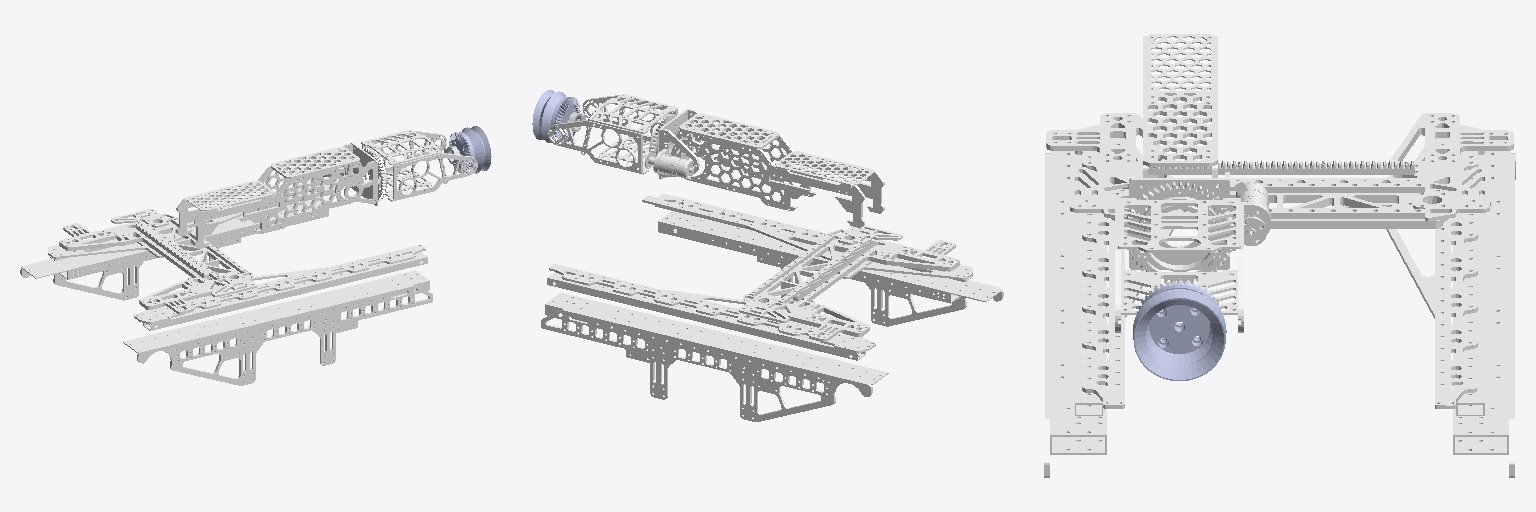
robot.urdf — engineer:
<?xml version="1.0" encoding="utf-8" ?>
<!-- This URDF was automatically created by SolidWorks to URDF Exporter! Originally created by [author] ([email redacted]) 
     Commit Version: 1.6.0-4-g7f85cfe  Build Version: 1.6.7995.38578
     For more information, please see http://wiki.ros.org/sw_urdf_exporter -->
<robot name="engineer">
    <link name="dummy" />
    <joint name="dummy_joint" type="fixed">
        <origin xyz="0 0 0" rpy="0 0 1.57" />
        <parent link="dummy" />
        <child link="base_link" />
    </joint>
    <link name="base_link">
        <inertial>
            <origin xyz="-0.288926800862263 0.341162145556413 -0.185664178118648" rpy="0 0 0" />
            <mass value="0.00001" />
            <inertia ixx="10" ixy="0" ixz="0" iyy="10" iyz="0" izz="10" />
        </inertial>
        <visual>
            <origin xyz="0 0 0" rpy="0 0 0" />
            <geometry>
                <mesh filename="package://engineer_description/meshes/base_link.STL" />
            </geometry>
            <material name="">
                <color rgba="0.752941176470588 0.752941176470588 0.752941176470588 1" />
            </material>
        </visual>
        <collision>
            <origin xyz="0 0 0" rpy="0 0 0" />
            <geometry>
                <mesh filename="package://engineer_description/meshes/base_link.STL" />
            </geometry>
        </collision>
    </link>
    <link name="uplift_Link">
        <inertial>
            <origin xyz="0.144500000000001 0.212634252637614 -0.0290559483353577" rpy="0 0 0" />
            <mass value="0.00001" />
            <inertia ixx="10" ixy="0" ixz="0" iyy="10" iyz="0" izz="10" />
        </inertial>
        <visual>
            <origin xyz="0 0 0" rpy="0 0 0" />
            <geometry>
                <mesh filename="package://engineer_description/meshes/uplift_Link.STL" />
            </geometry>
            <material name="">
                <color rgba="1 1 1 1" />
            </material>
        </visual>
        <collision>
            <origin xyz="0 0 0" rpy="0 0 0" />
            <geometry>
                <mesh filename="package://engineer_description/meshes/uplift_Link.STL" />
            </geometry>
        </collision>
    </link>
    <joint name="uplift_joint" type="prismatic">
        <origin xyz="-0.14393 0.2505 0.19643" rpy="0 0 -3.1416" />
        <parent link="base_link" />
        <child link="uplift_Link" />
        <axis xyz="0 0 1" />
        <limit lower="0" upper="0.66" effort="100" velocity="1.000001" />
    </joint>
    <link name="extend_Link">
        <inertial>
            <origin xyz="3.08764571280706E-05 0.00571135760942115 -0.0142912055436517" rpy="0 0 0" />
            <mass value="0.00001" />
            <inertia ixx="10" ixy="0" ixz="0" iyy="10" iyz="0" izz="10" />
        </inertial>
        <visual>
            <origin xyz="0 0 0" rpy="0 0 0" />
            <geometry>
                <mesh filename="package://engineer_description/meshes/extend_Link.STL" />
            </geometry>
            <material name="">
                <color rgba="1 1 1 1" />
            </material>
        </visual>
        <collision>
            <origin xyz="0 0 0" rpy="0 0 0" />
            <geometry>
                <mesh filename="package://engineer_description/meshes/extend_Link.STL" />
            </geometry>
        </collision>
    </link>
    <joint name="extend_joint" type="prismatic">
        <origin xyz="0.1445 0.115 0.013" rpy="1.5708 0 0" />
        <parent link="uplift_Link" />
        <child link="extend_Link" />
        <axis xyz="0 0 -1" />
        <limit lower="0" upper="0.66" effort="100" velocity="1.000001" />
    </joint>
    <link name="slide_Link">
        <inertial>
            <origin xyz="0.0352660608065838 0.0389862866052242 -0.0301817638795753" rpy="0 0 0" />
            <mass value="0.00001" />
            <inertia ixx="10" ixy="0" ixz="0" iyy="10" iyz="0" izz="10" />
        </inertial>
        <visual>
            <origin xyz="0 0 0" rpy="0 0 0" />
            <geometry>
                <mesh filename="package://engineer_description/meshes/slide_Link.STL" />
            </geometry>
            <material name="">
                <color rgba="1 1 1 1" />
            </material>
        </visual>
        <collision>
            <origin xyz="0 0 0" rpy="0 0 0" />
            <geometry>
                <mesh filename="package://engineer_description/meshes/slide_Link.STL" />
            </geometry>
        </collision>
    </link>
    <joint name="slide_joint" type="prismatic">
        <origin xyz="0.04035 0.017 -0.0805" rpy="0 -1.5708 0" />
        <parent link="extend_Link" />
        <child link="slide_Link" />
        <axis xyz="0 0 1" />
        <limit lower="0" upper="0.138" effort="100" velocity="1.000001" />
    </joint>
    <link name="arm_yaw_Link">
        <inertial>
            <origin xyz="-0.082 -0.0124971092307177 -0.0064843307519911" rpy="0 0 0" />
            <mass value="0.00001" />
            <inertia ixx="10" ixy="0" ixz="0" iyy="10" iyz="0" izz="10" />
        </inertial>
        <visual>
            <origin xyz="-0.065 0 0.027" rpy="0 0 0" />
            <geometry>
                <mesh filename="package://engineer_description/meshes/arm_yaw_Link.STL" />
            </geometry>
            <material name="">
                <color rgba="1 1 1 1" />
            </material>
        </visual>
        <collision>
            <origin xyz="0 0 0" rpy="0 0 0" />
            <geometry>
                <mesh filename="package://engineer_description/meshes/arm_yaw_Link.STL" />
            </geometry>
        </collision>
    </link>
    <joint name="arm_yaw_joint" type="revolute">
        <origin xyz="0.028141 0.0991 -0.0305" rpy="0 0 0" />
        <parent link="slide_Link" />
        <child link="arm_yaw_Link" />
        <axis xyz="0 1 0" />
        <limit lower="-0.5" upper="0.5" effort="100" velocity="1.000001" />
    </joint>
    <link name="arm_pitch_Link">
        <inertial>
            <origin xyz="-0.0175885979506964 -0.00282866653830499 0.0276708731942" rpy="0 0 0" />
            <mass value="0.00001" />
            <inertia ixx="10" ixy="0" ixz="0" iyy="10" iyz="0" izz="10" />
        </inertial>
        <visual>
            <origin xyz="0 0 0" rpy="0 0 0" />
            <geometry>
                <mesh filename="package://engineer_description/meshes/arm_pitch_Link.STL" />
            </geometry>
            <material name="">
                <color rgba="1 1 1 1" />
            </material>
        </visual>
        <collision>
            <origin xyz="0 0 0" rpy="0 0 0" />
            <geometry>
                <mesh filename="package://engineer_description/meshes/arm_pitch_Link.STL" />
            </geometry>
        </collision>
    </link>
    <joint name="arm_pitch_joint" type="revolute">
        <origin xyz="-0.1845 -0.0202 0.0003" rpy="3.1416 1.5708 0" />
        <parent link="arm_yaw_Link" />
        <child link="arm_pitch_Link" />
        <axis xyz="-1 0 0" />
        <limit lower="0" upper="1.57" effort="100" velocity="1.000001" />
    </joint>
    <link name="arm_roll_Link">
        <inertial>
            <origin xyz="-0.00217786926644958 0.00125739185470541 -0.040380529650322" rpy="0 0 0" />
            <mass value="0.00001" />
            <inertia ixx="10" ixy="0" ixz="0" iyy="10" iyz="0" izz="10" />
        </inertial>
        <visual>
            <origin xyz="0 0 0" rpy="0 0 0" />
            <geometry>
                <mesh filename="package://engineer_description/meshes/arm_roll_Link.STL" />
            </geometry>
            <material name="">
                <color rgba="1 1 1 1" />
            </material>
        </visual>
        <collision>
            <origin xyz="0 0 0" rpy="0 0 0" />
            <geometry>
                <mesh filename="package://engineer_description/meshes/arm_roll_Link.STL" />
            </geometry>
        </collision>
    </link>
    <joint name="arm_roll_joint" type="revolute">
        <origin xyz="0 0 0.057" rpy="3.1416 0 1.0472" />
        <parent link="arm_pitch_Link" />
        <child link="arm_roll_Link" />
        <axis xyz="0 0 -1" />
        <limit lower="-6.28" upper="6.28" effort="100" velocity="1.000001" />
    </joint>
    <link name="pitch_Link">
        <inertial>
            <origin xyz="-6.34133573429452E-09 -3.33749694547691E-11 -2.04926658975424E-09" rpy="0 0 0" />
            <mass value="0.00001" />
            <inertia ixx="10" ixy="0" ixz="0" iyy="10" iyz="0" izz="10" />
        </inertial>
        <visual>
            <origin xyz="0 0 0" rpy="0 0 0" />
            <geometry>
                <mesh filename="package://engineer_description/meshes/pitch_Link.STL" />
            </geometry>
            <material name="">
                <color rgba="0.898039215686275 0.917647058823529 0.929411764705882 1" />
            </material>
        </visual>
        <collision>
            <origin xyz="0 0 0" rpy="0 0 0" />
            <geometry>
                <mesh filename="package://engineer_description/meshes/pitch_Link.STL" />
            </geometry>
        </collision>
    </link>
    <joint name="pitch_joint" type="revolute">
        <origin xyz="0 0 -0.125" rpy="-1.5674 0 -2.0944" />
        <parent link="arm_roll_Link" />
        <child link="pitch_Link" />
        <axis xyz="1 0 0" />
        <limit lower="-1.57" upper="1.57" effort="100" velocity="1.000001" />
    </joint>
    <link name="roll_Link">
        <inertial>
            <origin xyz="0.0713401937594155 -2.0402457501234E-11 4.11626635554718E-12" rpy="0 0 0" />
            <mass value="0.00001" />
            <inertia ixx="10" ixy="0" ixz="0" iyy="10" iyz="0" izz="10" />
        </inertial>
        <visual>
            <origin xyz="0 0 0" rpy="0 0 0" />
            <geometry>
                <mesh filename="package://engineer_description/meshes/roll_Link.STL" />
            </geometry>
            <material name="">
                <color rgba="0.796078431372549 0.823529411764706 0.937254901960784 1" />
            </material>
        </visual>
        <collision>
            <origin xyz="0 0 0" rpy="0 0 0" />
            <geometry>
                <mesh filename="package://engineer_description/meshes/roll_Link.STL" />
            </geometry>
        </collision>
    </link>
    <joint name="roll_joint" type="revolute">
        <origin xyz="0 0.091246 0" rpy="0.73644 0 -1.5708" />
        <parent link="pitch_Link" />
        <child link="roll_Link" />
        <axis xyz="-1 0 0" />
        <limit lower="-6.28" upper="6.28" effort="100" velocity="1.000001" />
    </joint>

</robot>

--- Render facts (derived) ---
Views: 3 orthographic renders of the robot side by side, from view 1: azimuth 30°, elevation 25°; view 2: azimuth 150°, elevation 25°; view 3: azimuth 270°, elevation 25°.
Robot: engineer — 10 links, 9 joints (5 revolute, 3 prismatic, 1 fixed); root link dummy; default pose: every joint at zero.
Visible links, largest first — view 1: uplift_Link, arm_yaw_Link, extend_Link, arm_roll_Link, arm_pitch_Link, roll_Link; view 2: uplift_Link, arm_yaw_Link, extend_Link, arm_roll_Link, arm_pitch_Link, roll_Link; view 3: uplift_Link, extend_Link, arm_roll_Link, arm_yaw_Link, roll_Link, arm_pitch_Link.
Link boxes in pixels (x1,y1,x2,y2): uplift_Link: (20, 184, 432, 385); arm_yaw_Link: (176, 147, 363, 248); extend_Link: (59, 209, 256, 314); arm_roll_Link: (361, 130, 477, 201); arm_pitch_Link: (319, 143, 377, 205); roll_Link: (449, 126, 491, 173); uplift_Link: (541, 194, 1003, 421); arm_yaw_Link: (671, 113, 884, 227); extend_Link: (739, 225, 959, 341); arm_roll_Link: (547, 94, 677, 174); arm_pitch_Link: (645, 109, 719, 179); roll_Link: (532, 90, 580, 142); uplift_Link: (1044, 125, 1515, 477); extend_Link: (1046, 113, 1513, 228); arm_roll_Link: (1115, 182, 1243, 332); arm_yaw_Link: (1143, 34, 1217, 185); roll_Link: (1133, 280, 1226, 380); arm_pitch_Link: (1129, 172, 1270, 269).
Bounding box of the posed robot: 0.6088 × 0.3324 × 0.2679 m (x, y, z).
Meshes: 9 distinct files referenced, 7 mesh visuals loaded (7 binary STL); not drawn: 2 (reference not matched to a file when rendering).